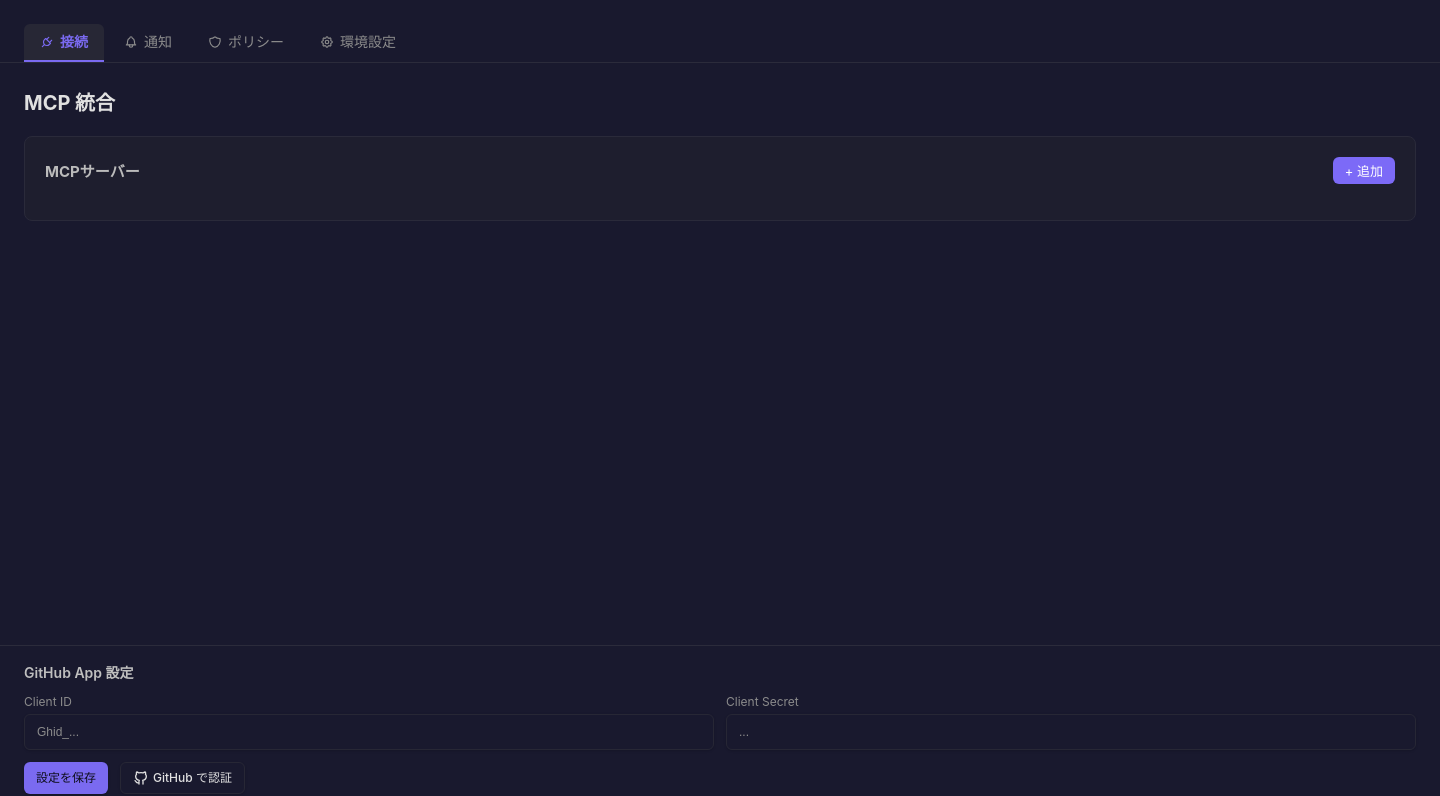
SettingsScreen › 現在のテーマボタンが強調表示される
Click the button "環境設定": (358,43) x1=304 y1=24 x2=412 y2=62
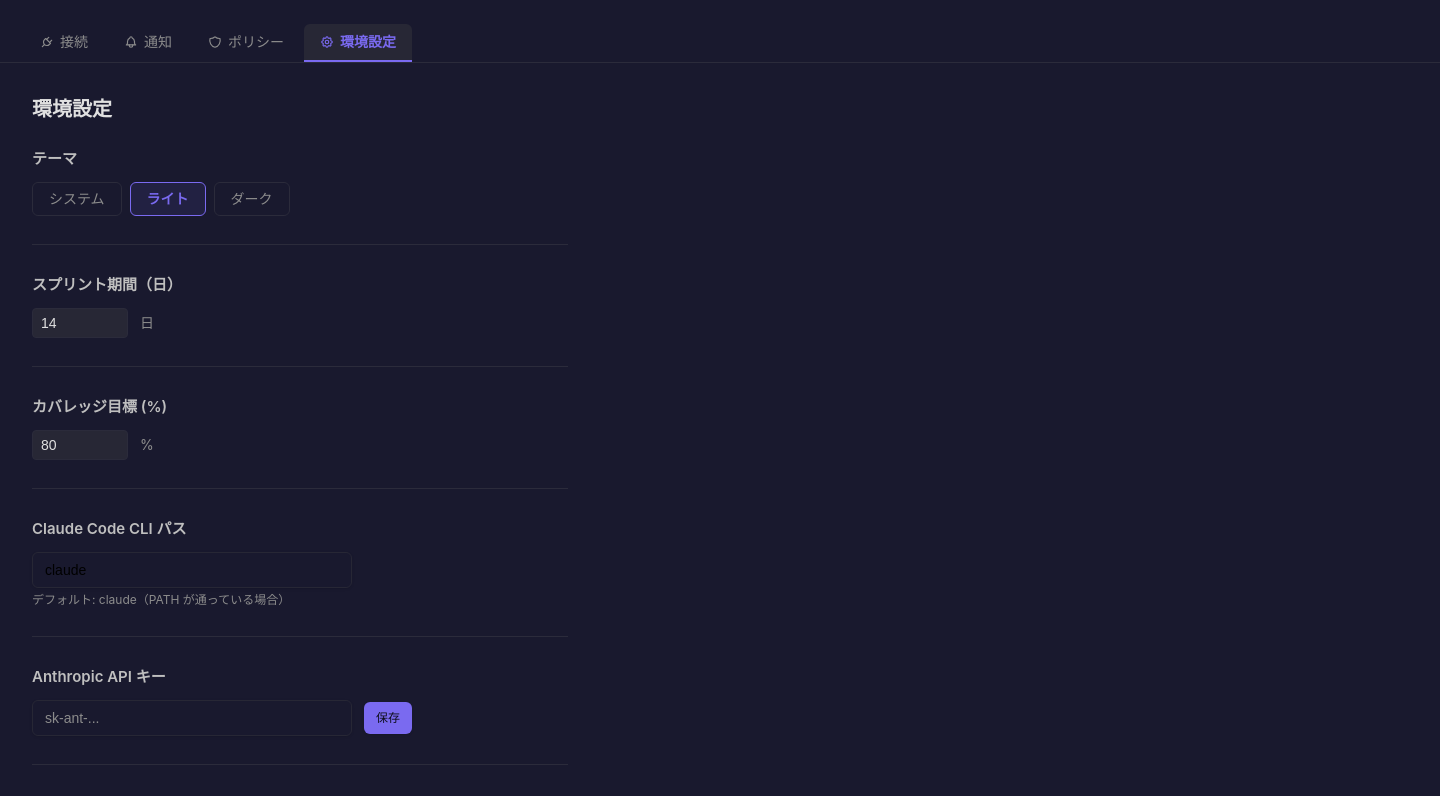
expect the button "ライト" is shown: met, box x1=130 y1=182 x2=206 y2=216
